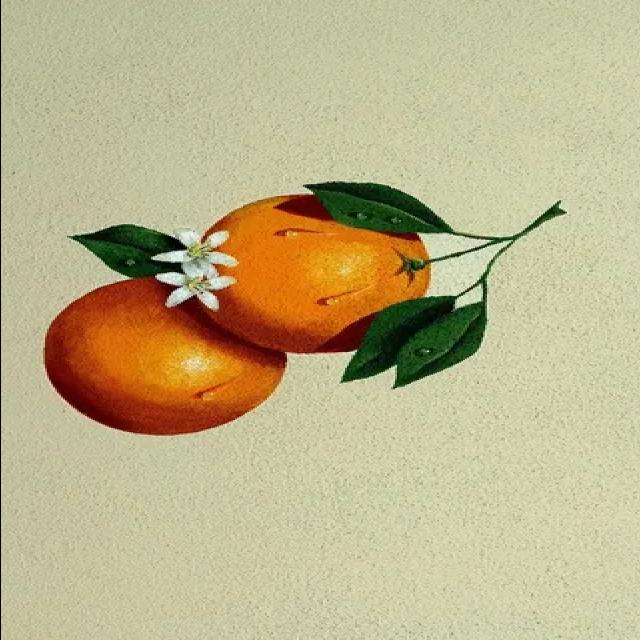orange: (170, 178, 437, 369)
